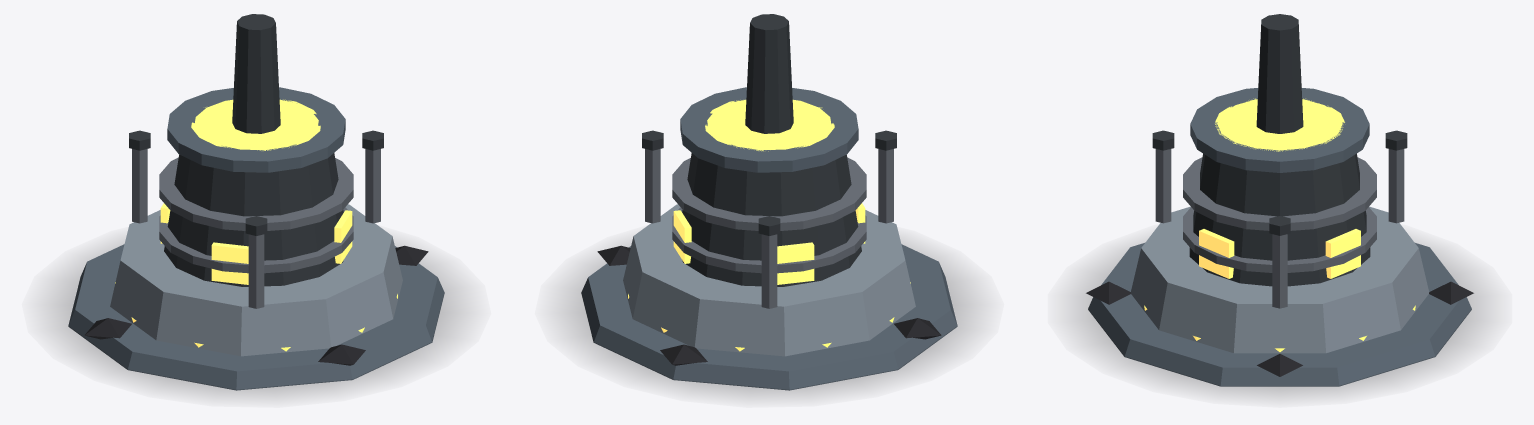
File: furnace_t0.glb
The picture shows the model from 3 angles, left to right: view 1: azimuth 30°, elevation 25°; view 2: azimuth 150°, elevation 25°; view 3: azimuth 270°, elevation 25°; orthographic projection.
Visible parts, largest first — view 1: furnace_t0; view 2: furnace_t0; view 3: furnace_t0.
Part boxes in pixels (x1,y1,x2,y2): furnace_t0: (51, 14, 461, 395); furnace_t0: (564, 14, 974, 395); furnace_t0: (1076, 14, 1483, 395).
Bounding box in the file's own units: 13.6 × 8.9 × 13.46.
